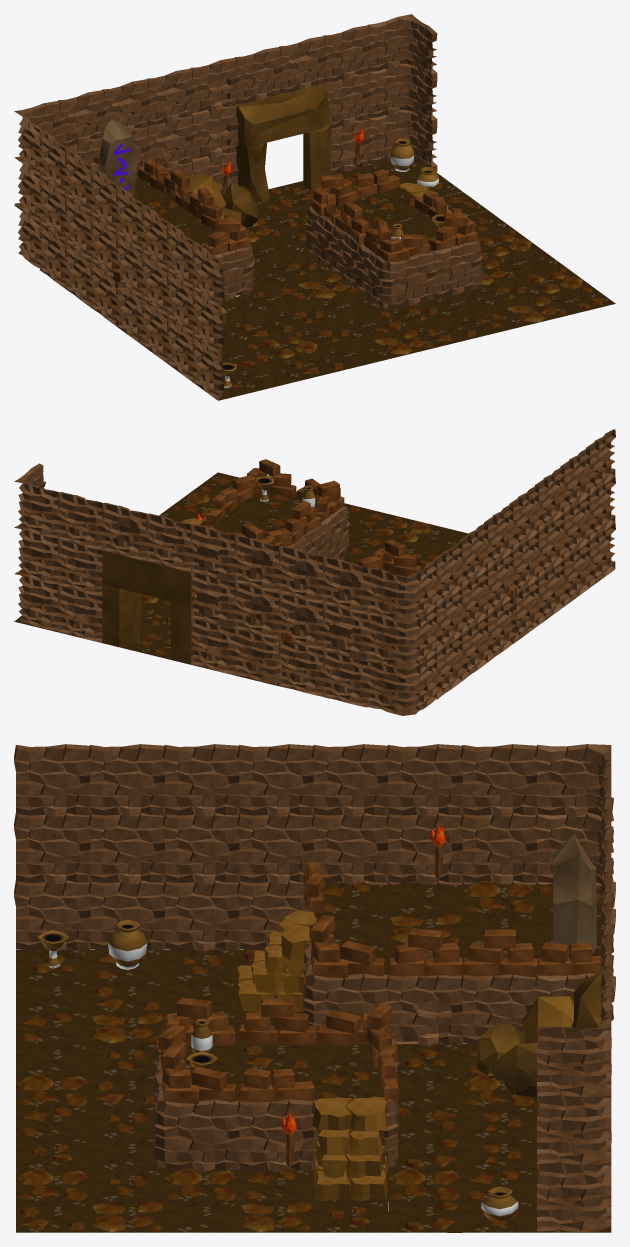
Rendered from Cave Dungeon Level Layout.fbx.
3 renders of one model, top to bottom at view 1: azimuth 30°, elevation 25°; view 2: azimuth 150°, elevation 25°; view 3: azimuth 270°, elevation 25°, orthographic. The views are drawn at different scales.
Visible parts, largest first — view 1: pCube362, Wall_brick_outer8, Wall_brick_inner18, Wall_brick_inner19, Wall_brick_inner20, Wall_brick_outer7, Wall_brick133, Wall_brick137, Wall_brick130, Wall_brick136, Wall_brick129, Wall_brick126 (+90 smaller); view 2: pCube362, Wall_brick_inner17, Wall_brick_inner16, Wall_brick_inner21, Wall_brick_inner18, Wall_brick126, Wall_brick133, Wall_brick137, Wall_brick136, Wall_brick129, Wall_brick130, Wall_brick125 (+53 smaller); view 3: Stone_Stair3, Wall_brick_outer7, Wall_brick_inner18, Wall_brick112, Wall_brick106, Wall_brick121, Wall_brick109, Wall_brick124, Wall_brick118, Wall_brick115, Wall_fire_torch9, Wall_brick116 (+93 smaller).
Boxes of the visible parts, x1,y1,x2,y2 form: pCube362: (236,84,332,201); Wall_brick_outer8: (356,243,436,308); Wall_brick_inner18: (367,14,437,79); Wall_brick_inner19: (368,63,437,125); Wall_brick_inner20: (368,110,437,171); Wall_brick_outer7: (432,239,483,297); Wall_brick133: (279,36,327,93); Wall_brick137: (235,47,282,104); Wall_brick130: (146,68,194,125); Wall_brick136: (323,25,371,82); Wall_brick129: (190,57,238,114); Wall_brick126: (58,90,106,146); pCube362: (102,551,193,664); Wall_brick_inner17: (367,559,436,623); Wall_brick_inner16: (367,606,436,669); Wall_brick_inner21: (367,652,436,715); Wall_brick_inner18: (14,463,61,538); Wall_brick126: (323,556,370,614); Wall_brick133: (102,502,149,561); Wall_brick137: (146,513,193,571); Wall_brick136: (58,492,105,550); Wall_brick129: (190,524,238,582); Wall_brick130: (234,535,282,593); Wall_brick125: (279,546,326,604); Stone_Stair3: (312,1096,388,1201); Wall_brick_outer7: (153,1069,239,1172); Wall_brick_inner18: (537,997,611,1096); Wall_brick112: (311,744,388,816); Wall_brick106: (460,744,537,816); Wall_brick121: (88,744,164,816); Wall_brick109: (386,744,462,816); Wall_brick124: (14,744,90,816); Wall_brick118: (163,744,239,816); Wall_brick115: (237,744,313,816); Wall_fire_torch9: (237,1099,313,1171); Wall_brick116: (163,880,239,951).
Size of the model in its own units: 18.06 by 6.1 by 16.17.
